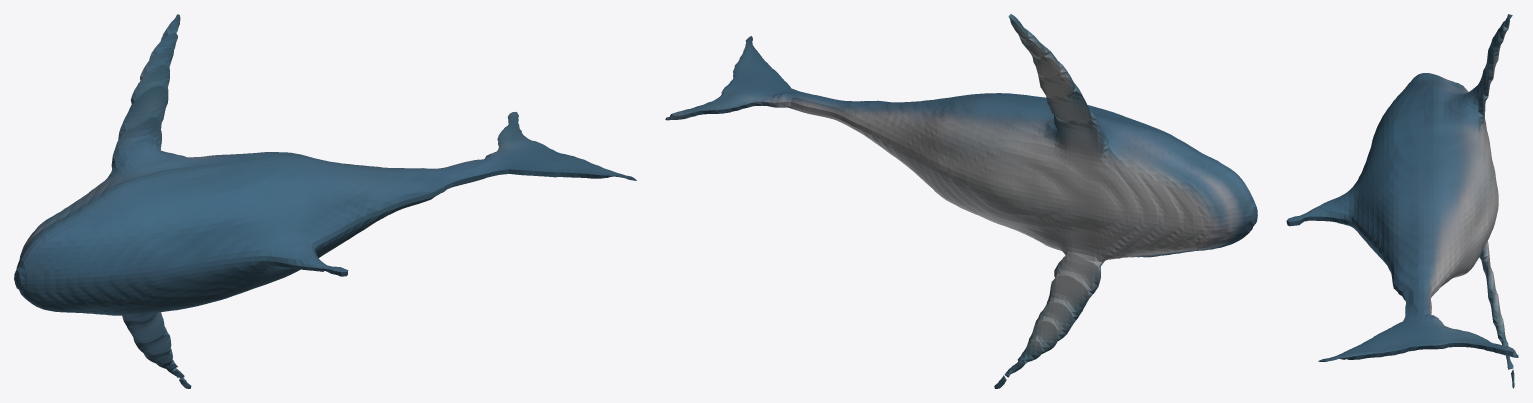
The model's file is shark.glb.
3 views of the same model, side by side, from view 1: azimuth 30°, elevation 25°; view 2: azimuth 150°, elevation 25°; view 3: azimuth 270°, elevation 25° (orthographic). The views are drawn at different scales.
Visible parts, largest first — view 1: defaultobject; view 2: defaultobject; view 3: defaultobject.
Boxes of the visible parts, left/top/right/bottom form: defaultobject: left=14, top=14, right=636, bottom=388; defaultobject: left=665, top=14, right=1257, bottom=388; defaultobject: left=1286, top=14, right=1518, bottom=388.
Size of the model in its own units: 1.98 by 1.27 by 0.7241.
